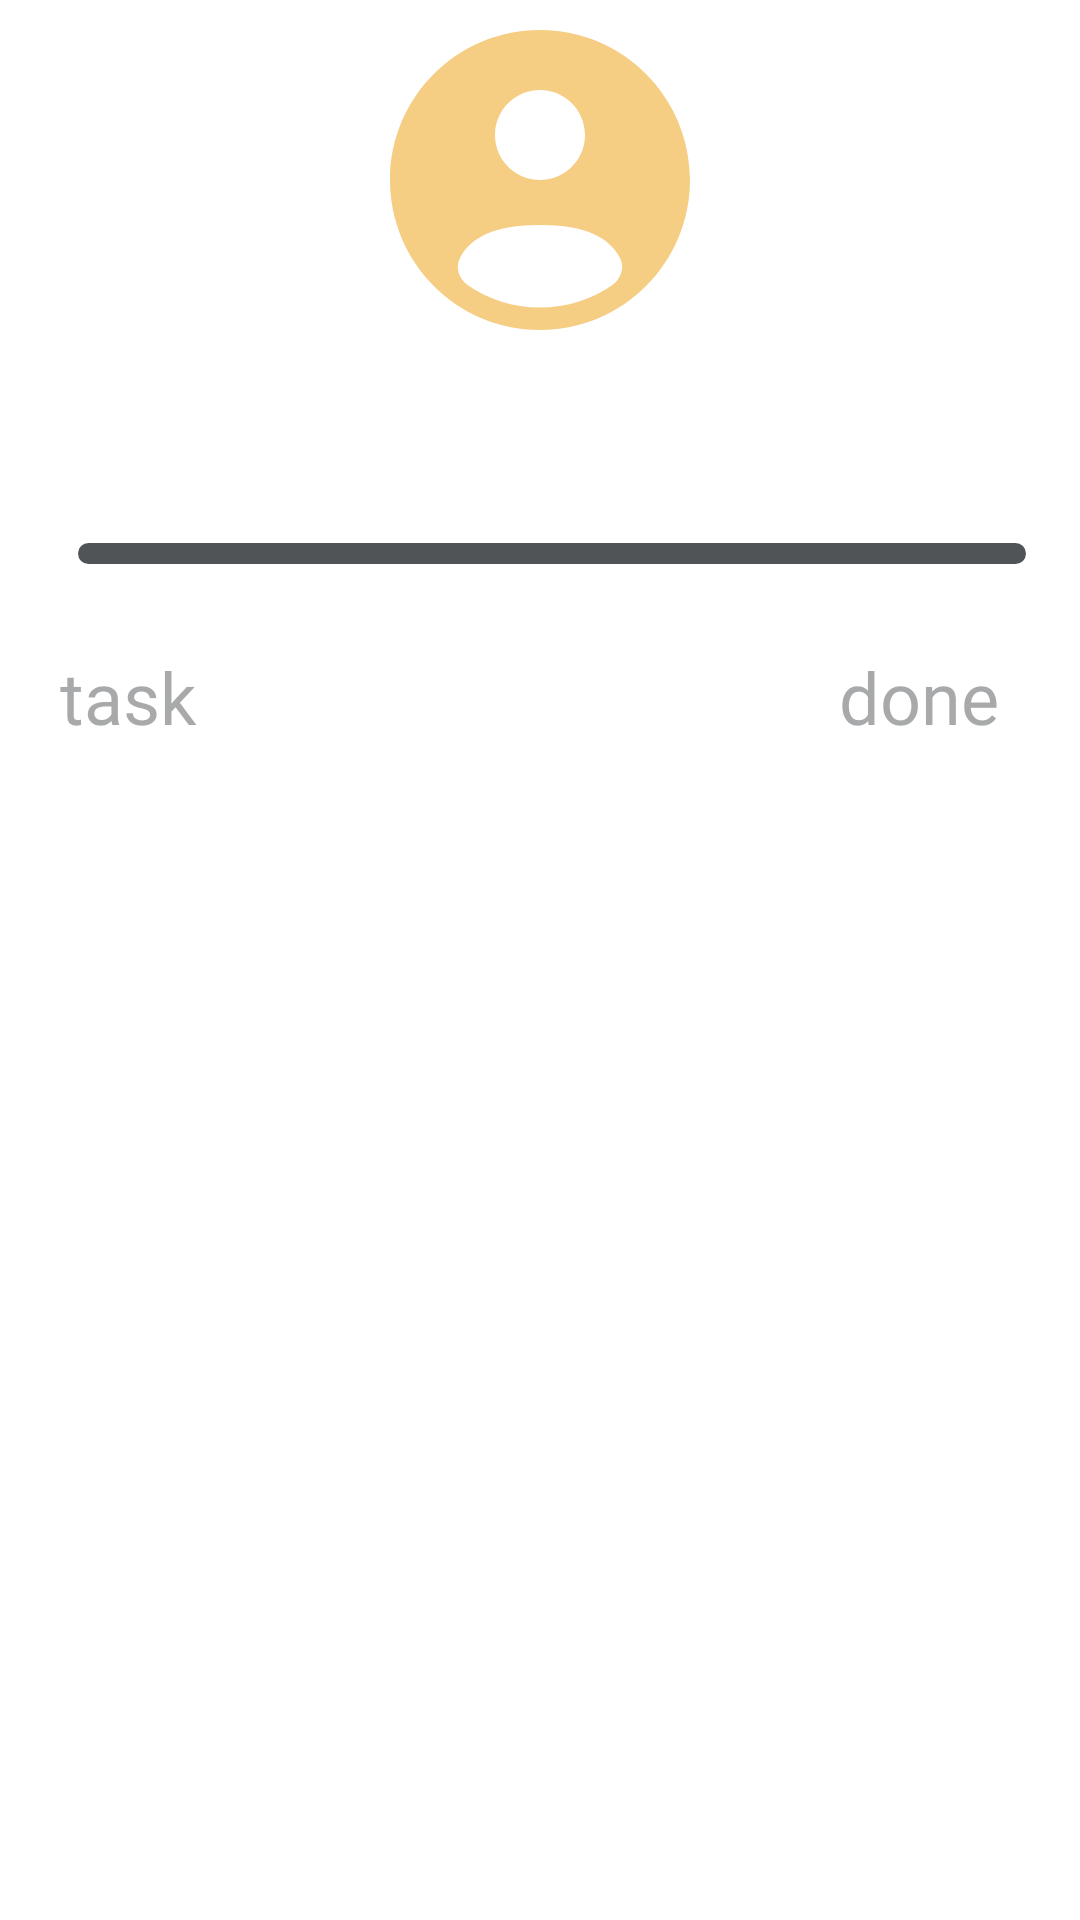

Where to tap for icons on this 1080 x 1920 app screen, as point (x, y):
Choose an image for your profile picture: point (540, 180)
